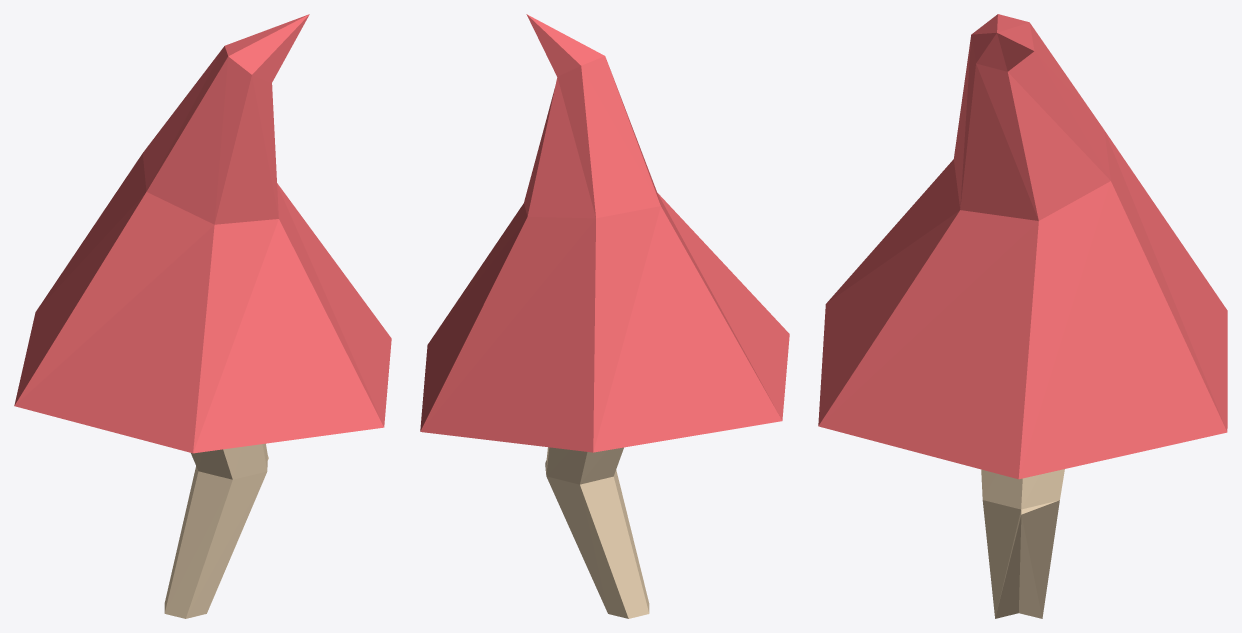
Rendered from pink_mushroom.obj.
The picture shows the model from 3 angles, left to right: view 1: azimuth 30°, elevation 25°; view 2: azimuth 150°, elevation 25°; view 3: azimuth 270°, elevation 25°; orthographic projection. The views are drawn at different scales.
Bounding box in the file's own units: 1.26 × 1.87 × 1.08.
